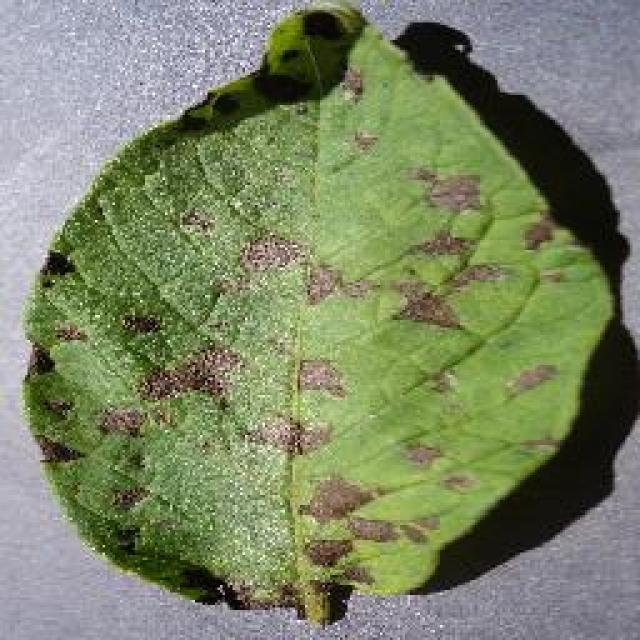early_blight: (18, 0, 620, 628)
